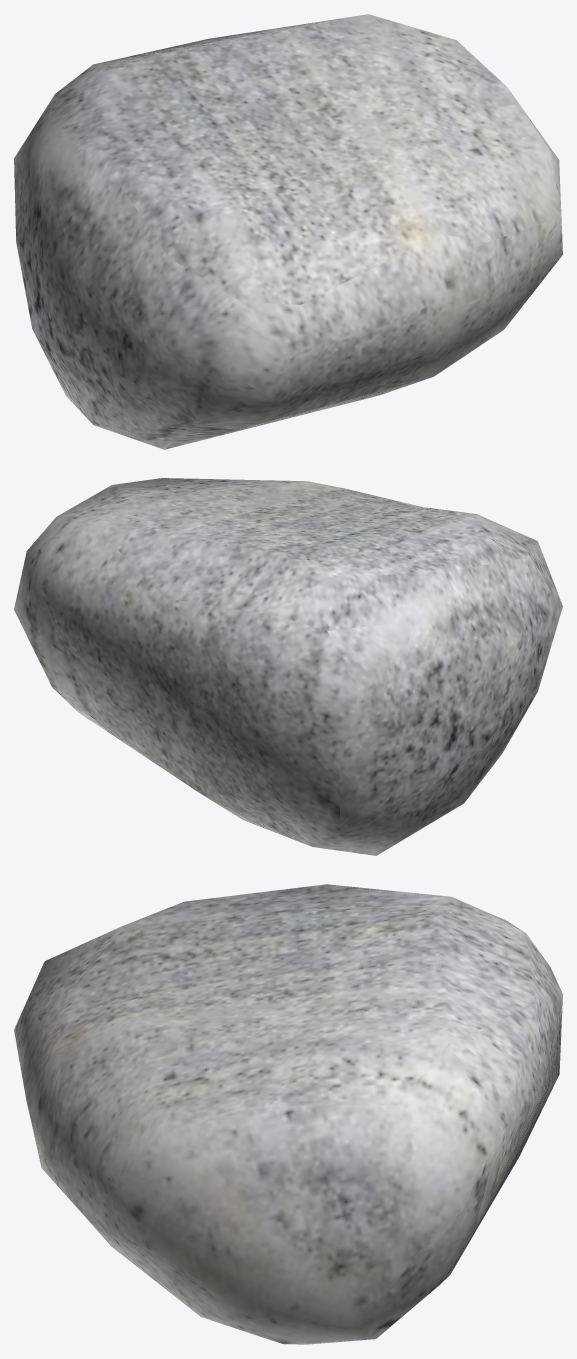
Rendered from rock033.glb.
The picture shows the model from 3 angles, top to bottom: view 1: azimuth 30°, elevation 25°; view 2: azimuth 150°, elevation 25°; view 3: azimuth 270°, elevation 25°; orthographic projection. The views are drawn at different scales.
Visible parts, largest first — view 1: rock033; view 2: rock033; view 3: rock033.
Part boxes in pixels (x1=…): rock033: x1=14, y1=14, x2=562, y2=449; rock033: x1=14, y1=478, x2=562, y2=855; rock033: x1=14, y1=884, x2=562, y2=1344.
Size of the model in its own units: 0.9858 by 0.6677 by 0.8968.
Materials: 1 (1 with a texture image).
